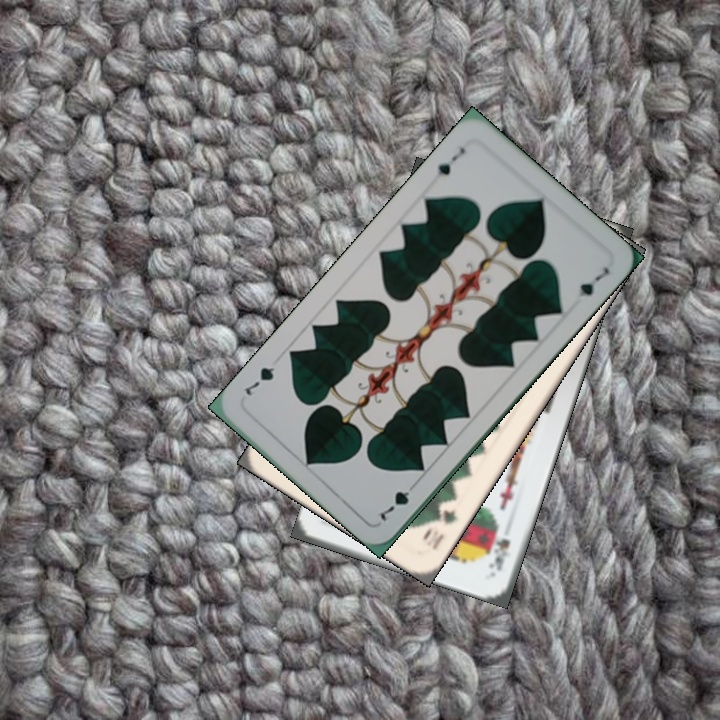G10: (428, 505, 460, 553)
G7: (376, 477, 419, 524), (433, 143, 468, 178)
SK: (485, 534, 513, 573)
